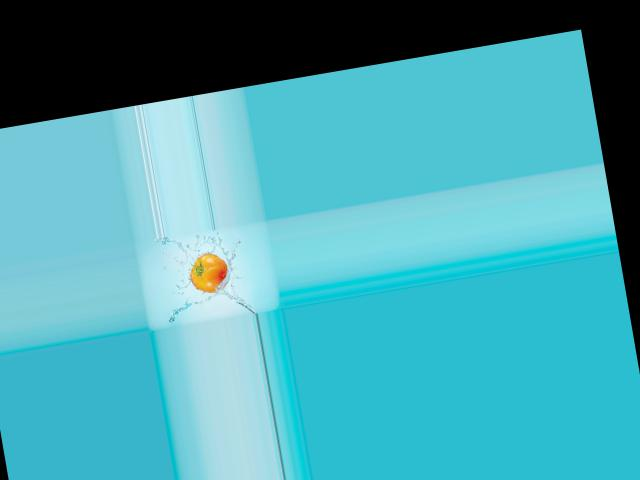tomato: (187, 250, 231, 295)
